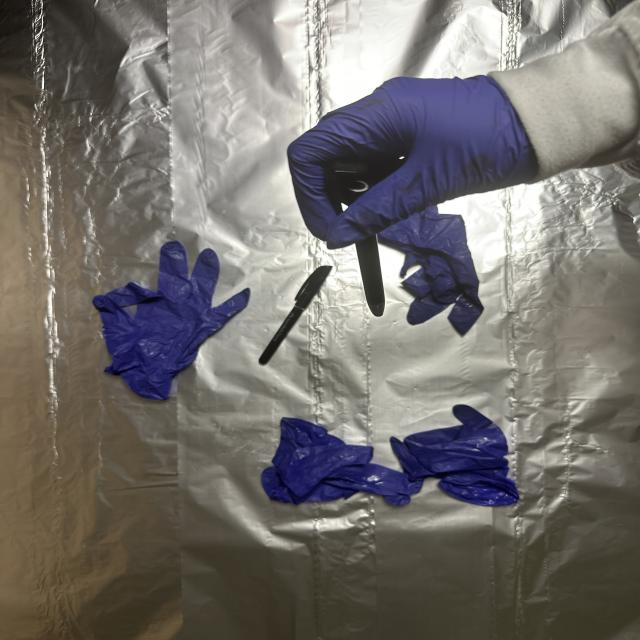gloves_contaminated: (288, 76, 537, 249)
